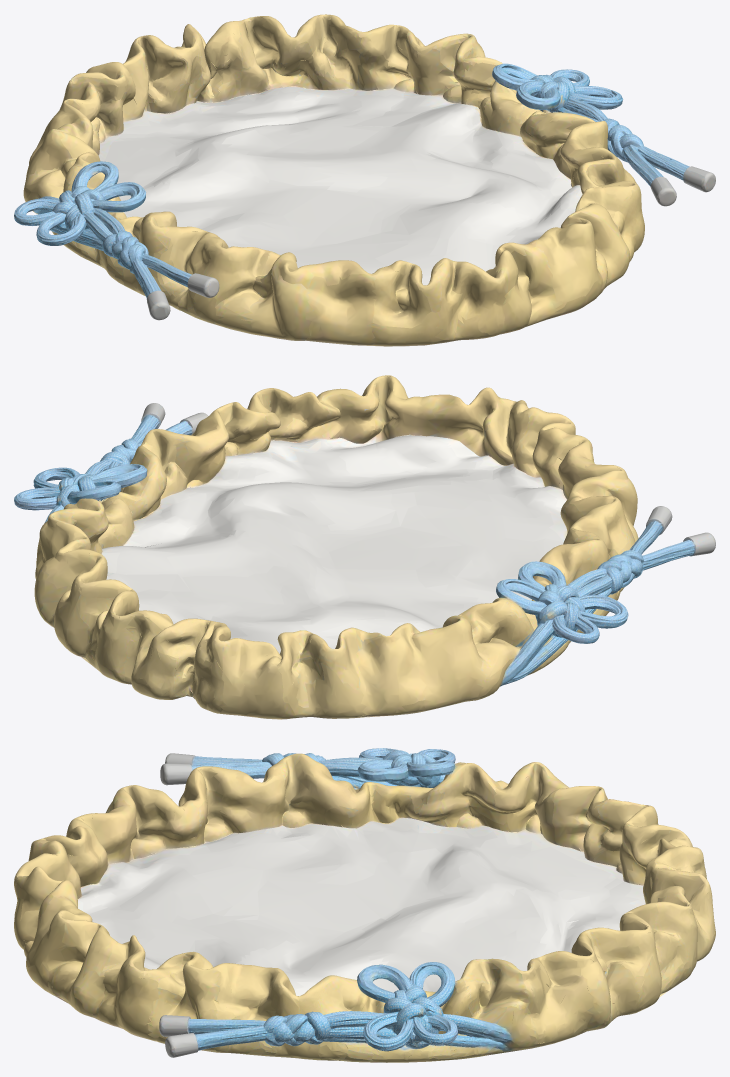
The model's file is pouch-open.glb.
3 renders of one model, top to bottom at view 1: azimuth 30°, elevation 25°; view 2: azimuth 150°, elevation 25°; view 3: azimuth 270°, elevation 25°, orthographic. The views are drawn at different scales.
Visible parts, largest first — view 1: pouch; view 2: pouch; view 3: pouch.
Part boxes in pixels (left/top/right/bottom): pouch: left=14, top=14, right=715, bottom=346; pouch: left=14, top=375, right=715, bottom=719; pouch: left=14, top=748, right=715, bottom=1062.
Size of the model in its own units: 1.9 by 0.2351 by 1.9.
1 material, 1 textured.
